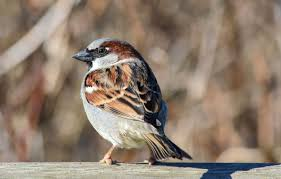hsparrow: (69, 32, 198, 168)
